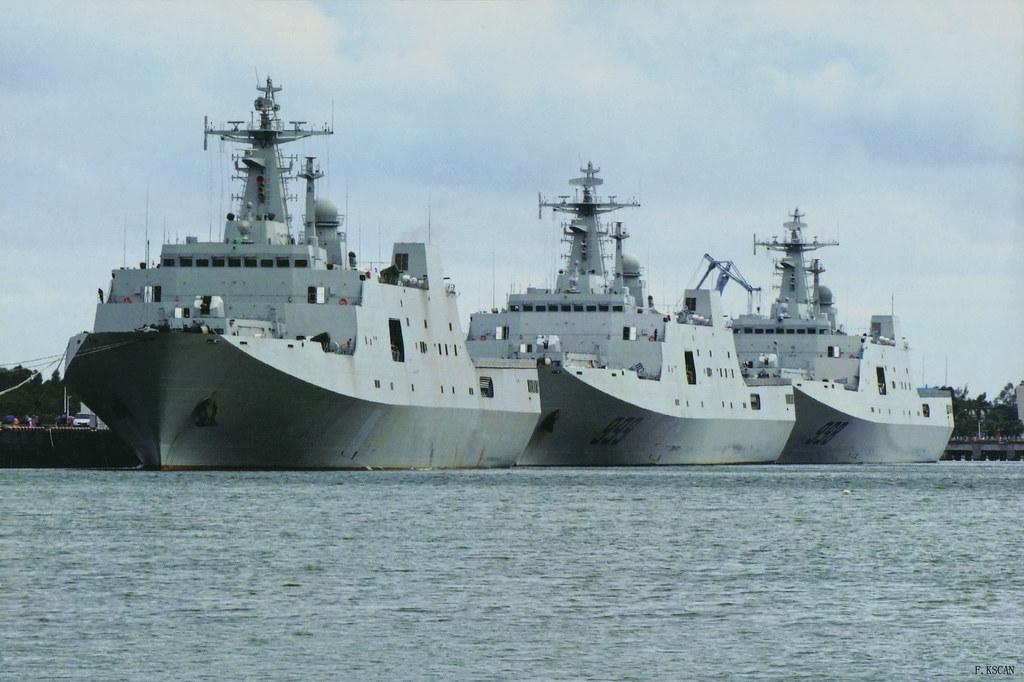Warship: (64, 77, 558, 504), (500, 152, 796, 468), (728, 180, 956, 469)
